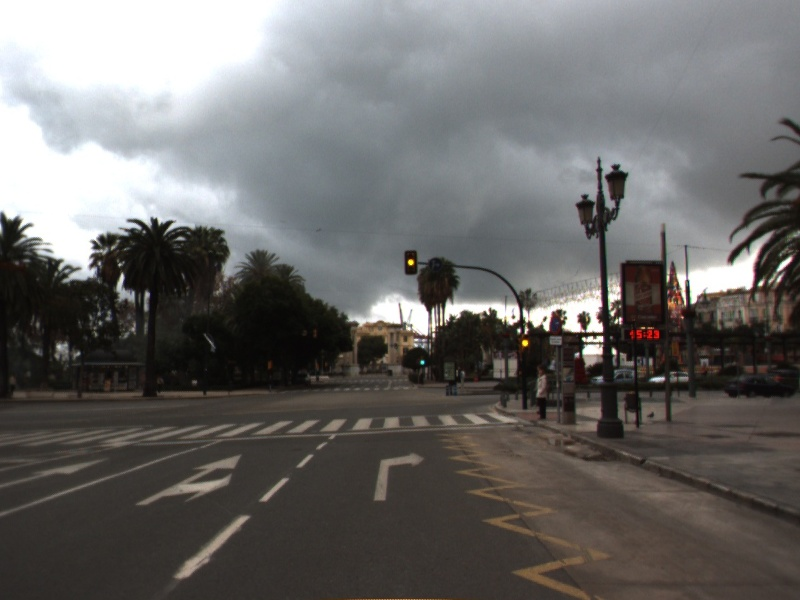RIGHT: (371, 449, 429, 503)
STRAIGHT: (1, 454, 114, 490)
STRAIGHT_RIGHT: (133, 451, 245, 508)
